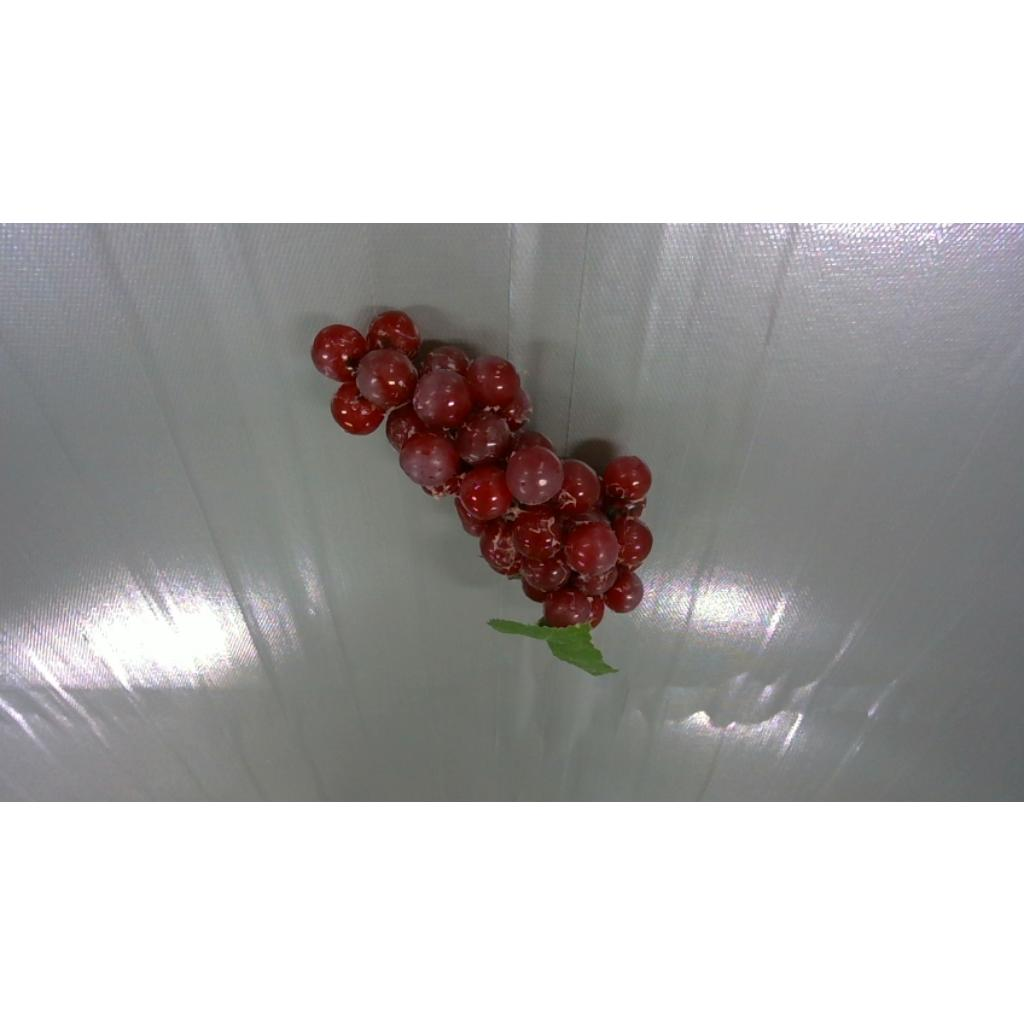grape: (312, 310, 652, 674)
